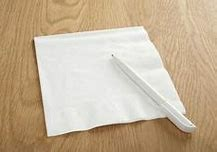pen: (113, 54, 197, 135)
